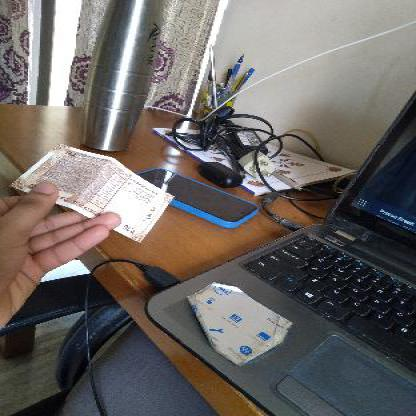New10Back: (14, 142, 173, 240)
